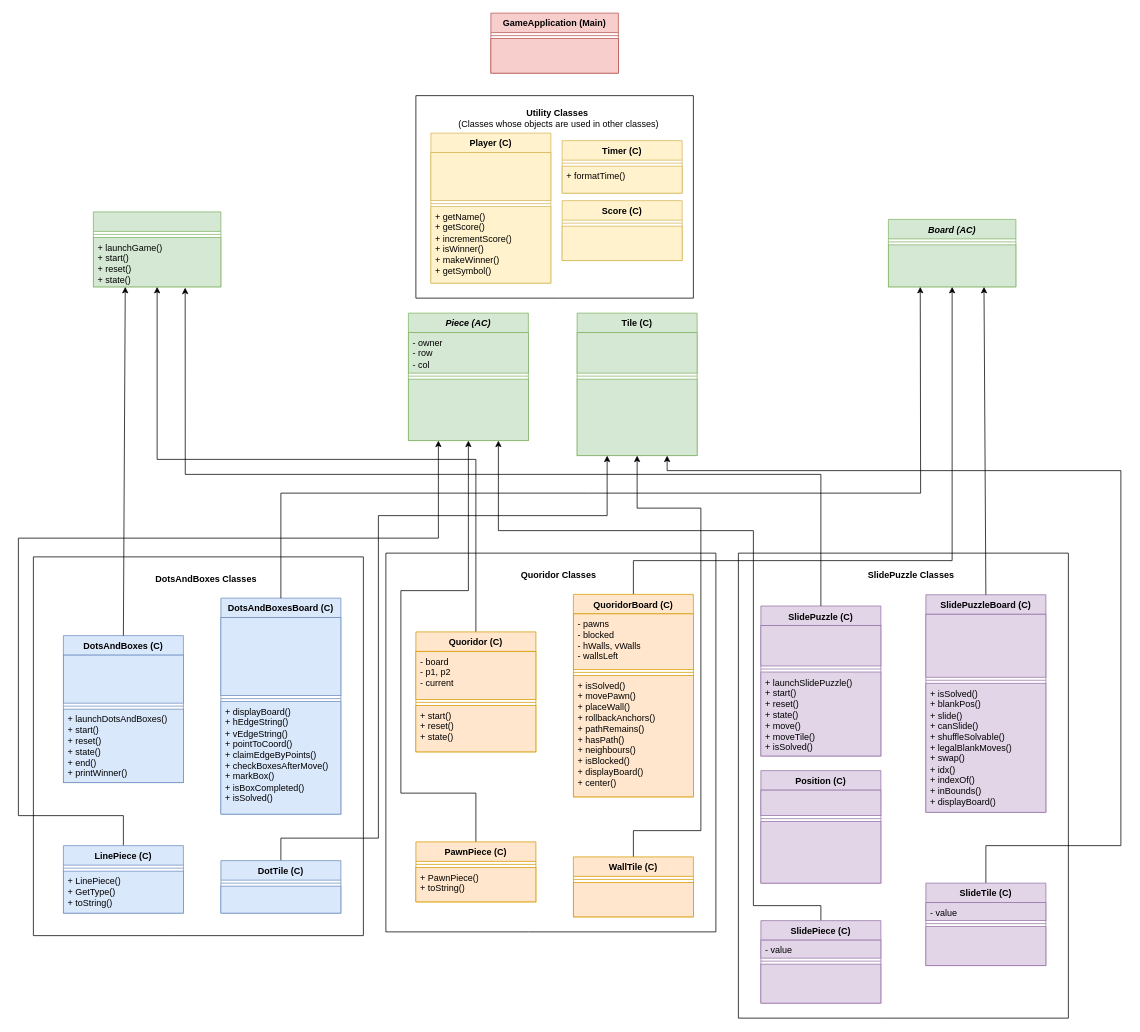
The diagram is 1140 pixels wide and 1032 high, and some of its shapes have lost their labels. Here are the shapes that lost their labels. From the top down, the box of each, then its label:
(490, 38, 618, 73): + main() [Runs Game.launchGame]
(430, 152, 551, 201): - name - id - score - isWinner
(93, 211, 221, 287): Game (AC)
(561, 225, 682, 261): + saveScore() + showScores()
(888, 244, 1016, 287): +setupBoardDimensions() + isSolved() + displayBoard()
(576, 332, 697, 373): - row - col - occupant
(408, 378, 528, 441): + getOwner() + getRow() + getCol() + setPosition() + toString()
(576, 378, 697, 456): + getRow() + getCol() + isEmpty() + getOccupant() + setOccupant() + toString()
(220, 617, 341, 696): - row, cols - hEdges, vEdges - boxes - playerSymbols - playerBoxCount - dots
(760, 625, 881, 666): - board - row, cols - rng
(925, 614, 1046, 677): - row, cols - hEdges, vEdges - boxes - playerSymbols - playerBoxCount
(63, 654, 183, 703): - board - p1 - p2
(760, 789, 881, 816): - row, col
(760, 821, 881, 883): + of() + equals() + hashCode() + toString()
(220, 885, 341, 913): + DotTile()
(573, 882, 693, 917): + WallTile() + isHorizontal()
(925, 926, 1046, 966): + getValue() + setValue() + toString()
(760, 963, 881, 1003): + getValue() + toString()
